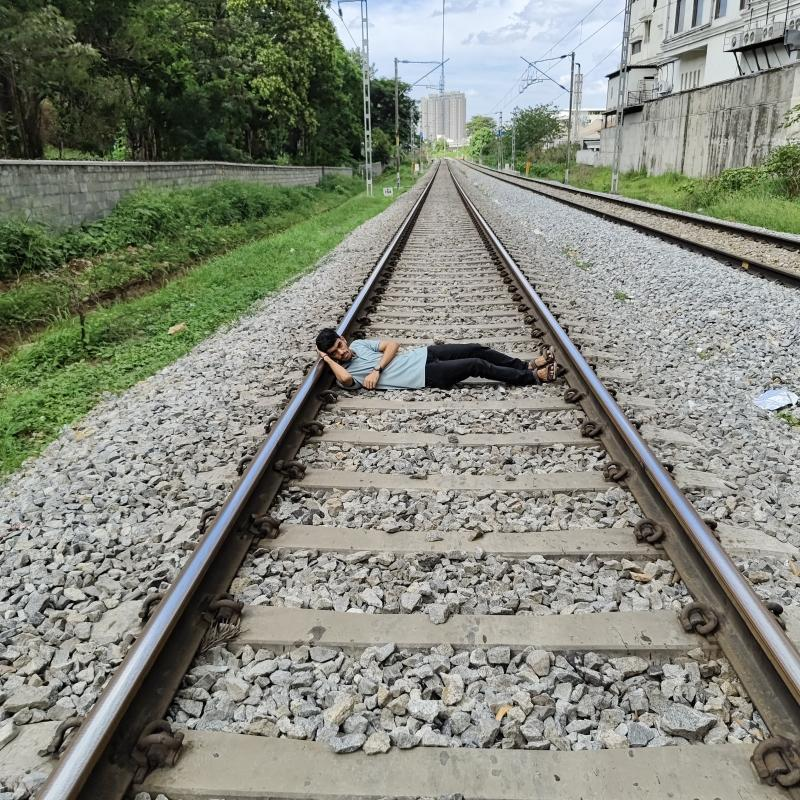sleeping: (311, 323, 569, 394)
